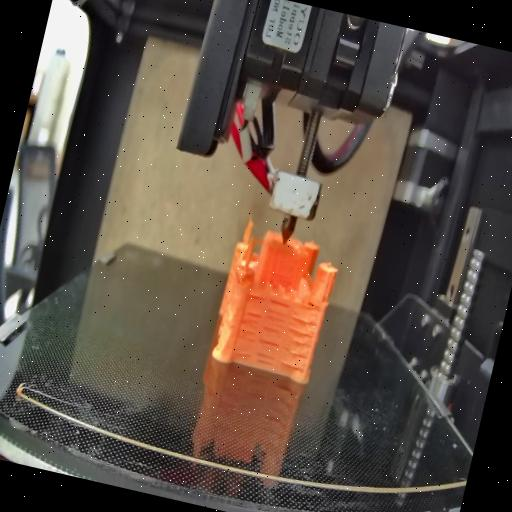cracks: (253, 297, 290, 370), (276, 314, 320, 374), (232, 306, 264, 356), (244, 288, 268, 302), (301, 294, 319, 312)
